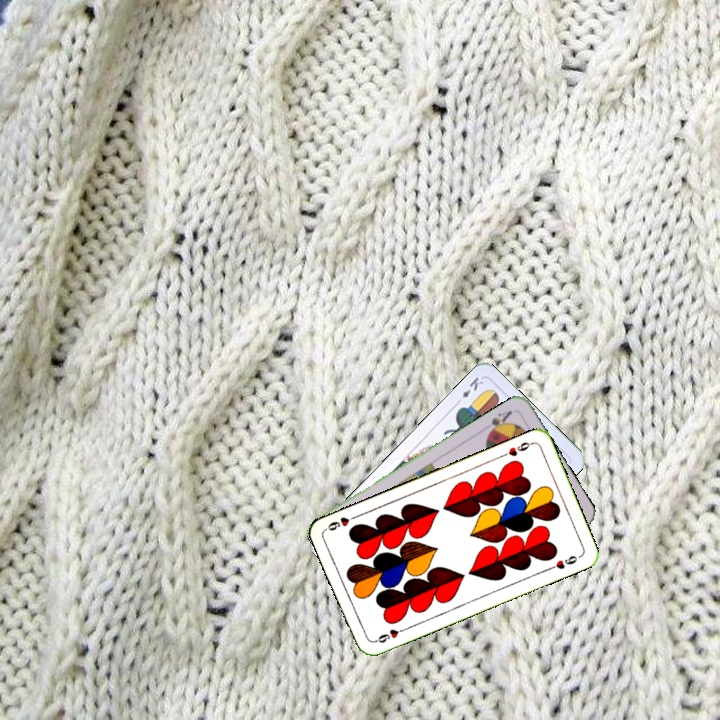EK: (452, 373, 486, 407)
H9: (497, 438, 536, 460), (370, 624, 409, 646)
SA: (480, 406, 515, 438)
